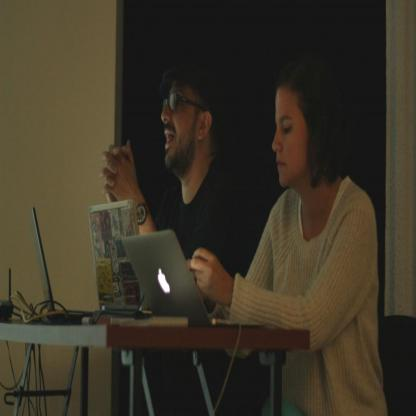board: (111, 218, 208, 325), (87, 198, 152, 316), (28, 206, 92, 324)
